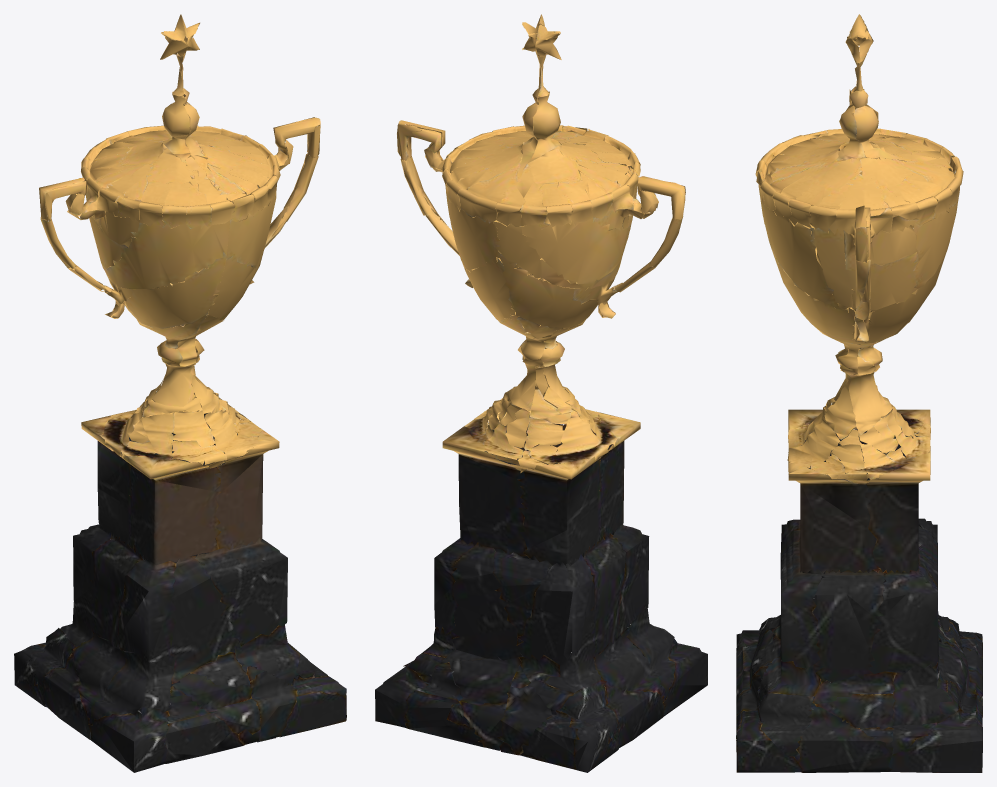
Rendered from co_trophy_p.glb.
3 renders of one model, left to right at view 1: azimuth 30°, elevation 25°; view 2: azimuth 150°, elevation 25°; view 3: azimuth 270°, elevation 25°, orthographic. The views are drawn at different scales.
Visible parts, largest first — view 1: Mesh_0; view 2: Mesh_0; view 3: Mesh_0.
Boxes of the visible parts, box(x1,y1,x2,y2) form: Mesh_0: box(14, 14, 346, 772); Mesh_0: box(375, 14, 707, 772); Mesh_0: box(736, 14, 982, 772).
Bounding box in the file's own units: 0.8121 × 1.9 × 0.6014.
1 material, 1 textured.
